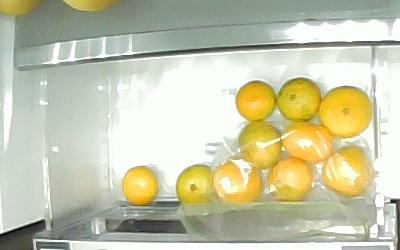tangerine: (316, 84, 372, 137), (274, 76, 321, 121), (233, 79, 277, 121), (174, 162, 215, 204), (121, 164, 159, 206)
tangerine_vinyl: (319, 144, 374, 198), (210, 156, 264, 203), (279, 118, 333, 162), (266, 155, 314, 201), (237, 120, 282, 169)
